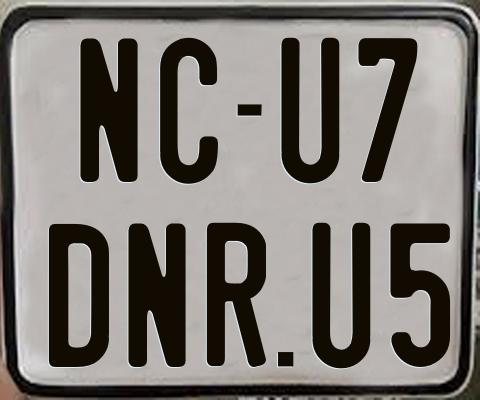5: (390, 220, 454, 365)
7: (357, 38, 418, 183)
C: (157, 38, 217, 184)
D: (46, 222, 110, 369)
N: (80, 38, 144, 182), (128, 220, 186, 369)
R: (206, 221, 271, 365)
U: (281, 36, 340, 184), (310, 222, 368, 368)
